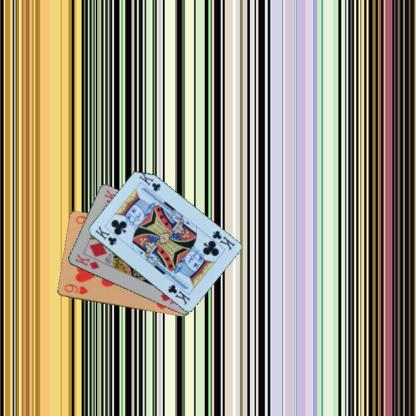9h: (62, 281, 89, 296)
Kc: (92, 223, 118, 247), (210, 228, 236, 252)
Kd: (72, 251, 101, 271)
